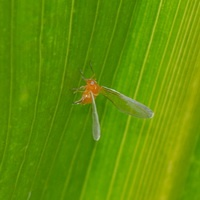insect: (74, 79, 153, 140)
